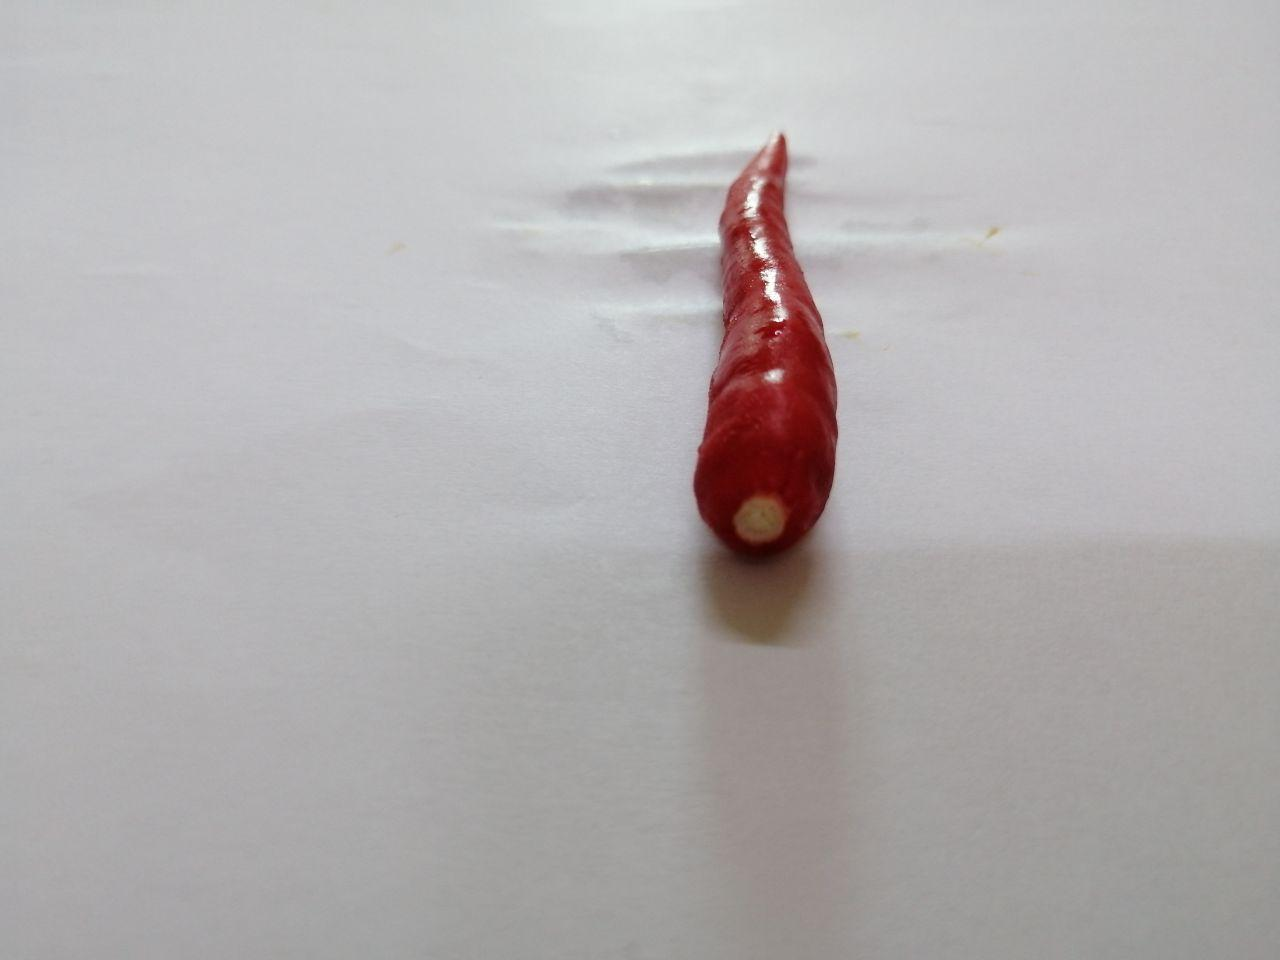lada merah: (678, 105, 855, 565)
